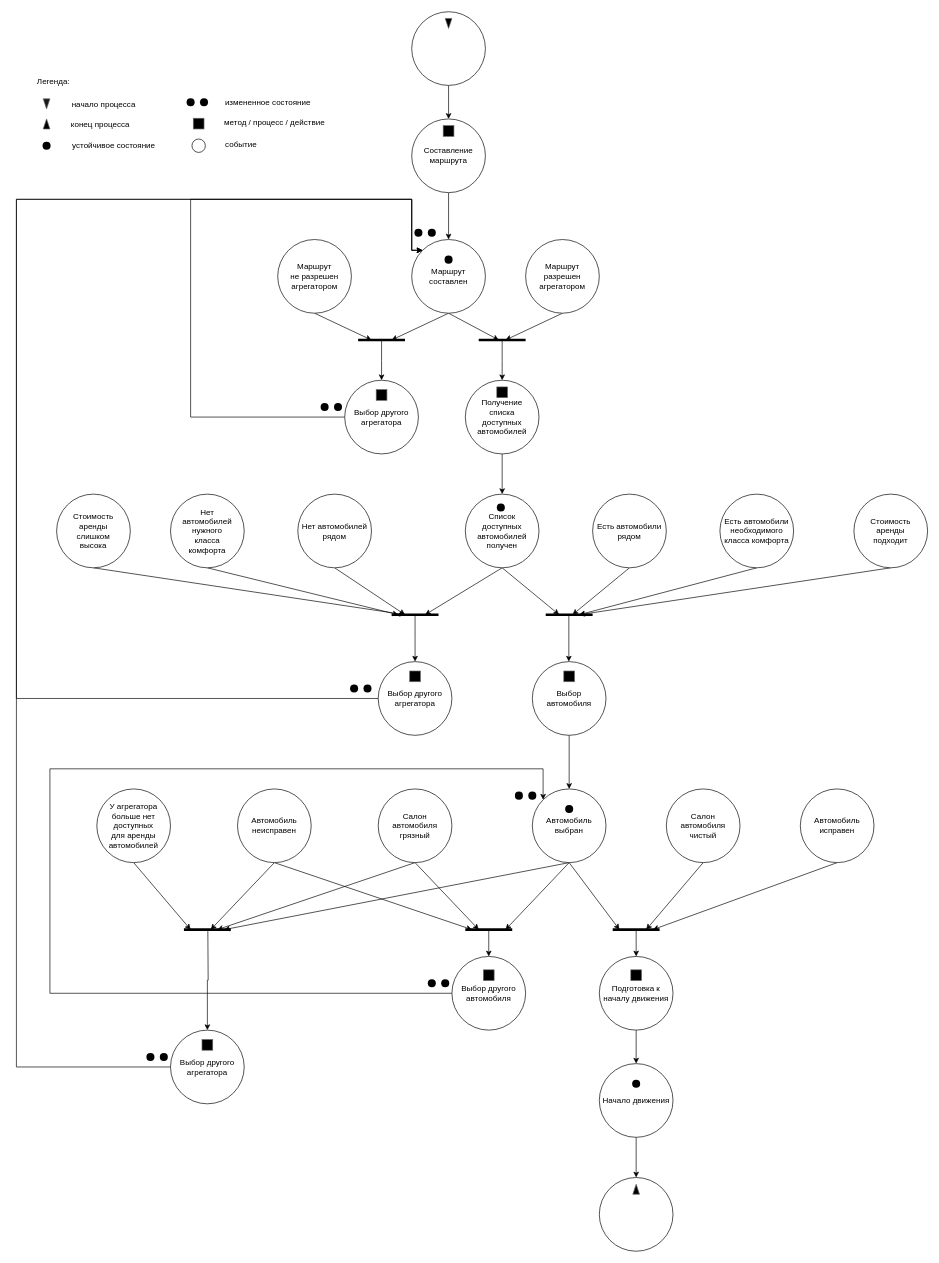
This 939x1263 diagram has some shape labels left out. Each missing label, with the centre of its shape:
Исток (начало рассмотрения процесса): the point at 448,48
Сток (завершение рассмотрения процесса): the point at 636,1214
